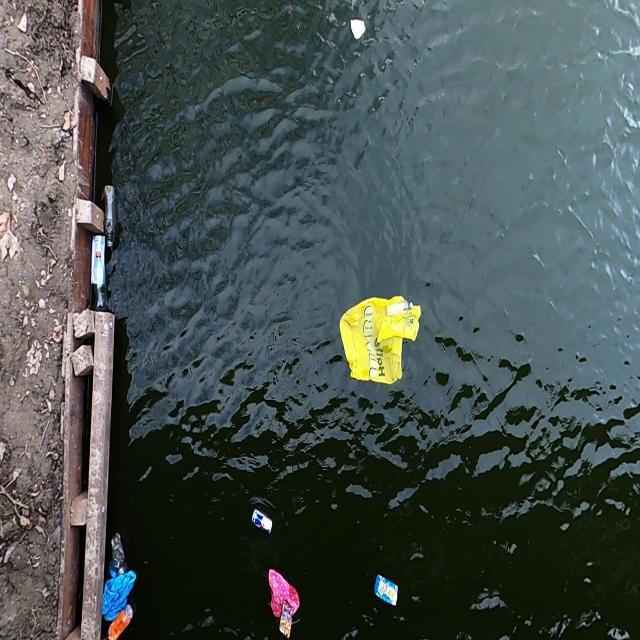Non plastique: (248, 508, 274, 539), (346, 17, 368, 44)
Sac plastique: (336, 290, 425, 390), (102, 568, 137, 624)
